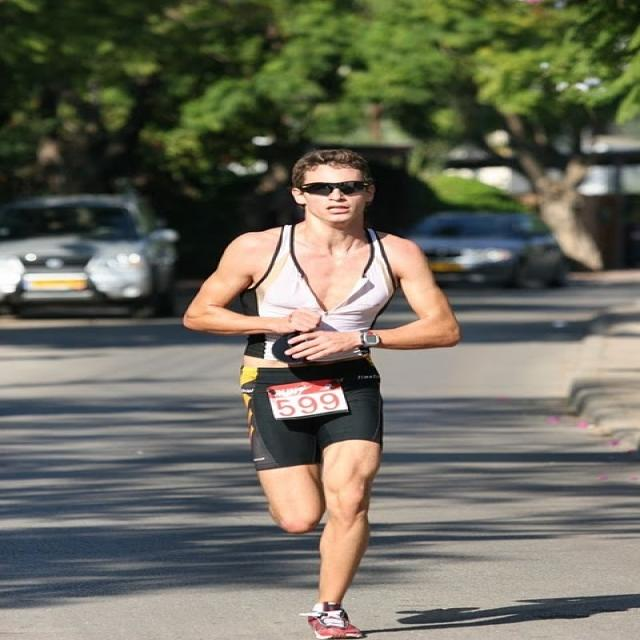Bib: (270, 394, 343, 418)
